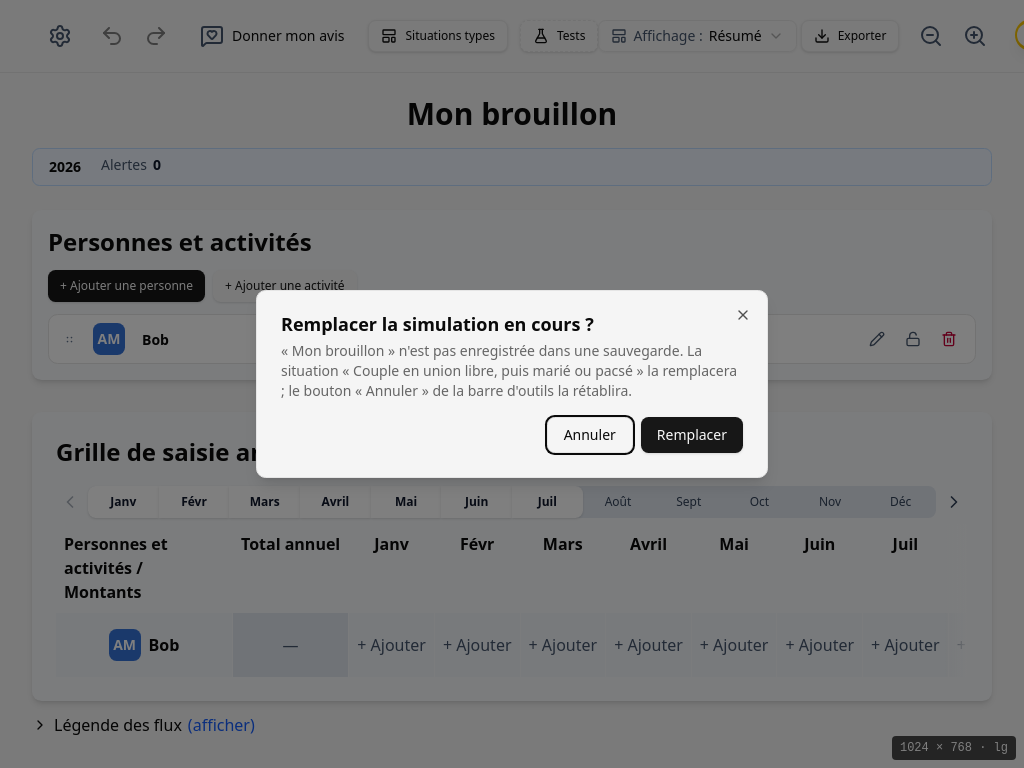
Scenario: App : adresse d'une situation type (#situation=…) › sur une simulation non enregistrée, « Remplacer » charge la situation, annulable en une étape
What coordinates should you click on to do the following:
click the button "Remplacer"
I would click on:
 (692, 435)
Its box is [641,417,743,453].
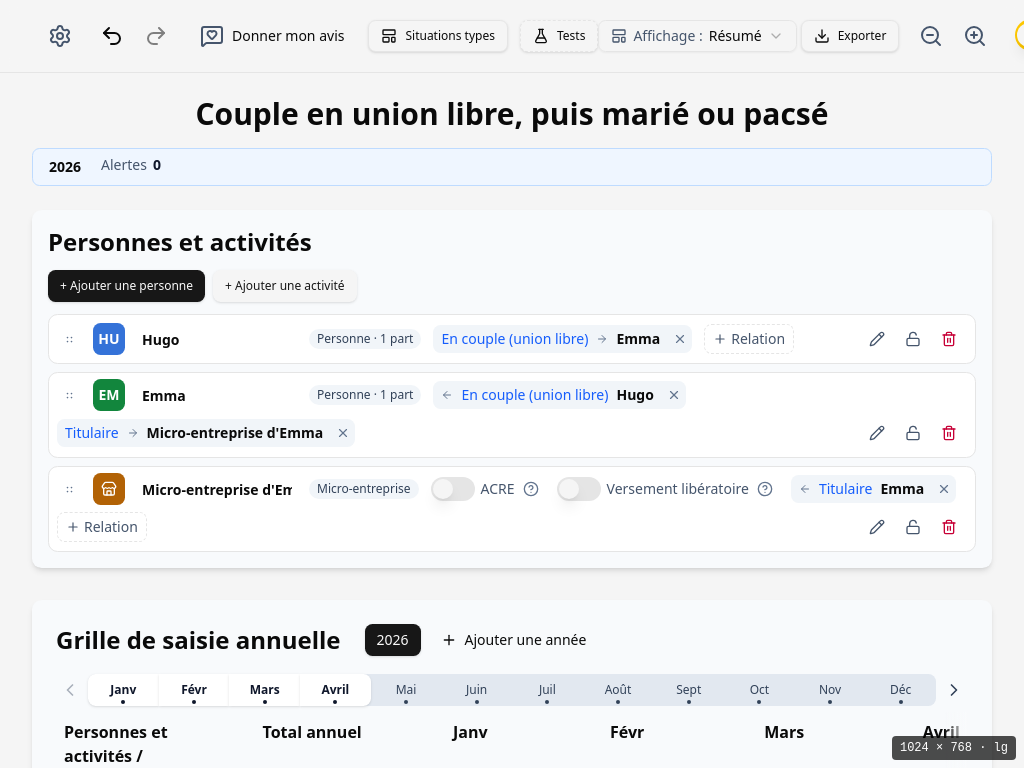
Check: the heading "Couple en union libre, puis marié ou pacsé" is shown, box [196,93,828,134]
What coordinates should you click on to do the following:
click the button named "Annuler"
I would click on:
 (112, 36)
Its box is [92,16,132,56].
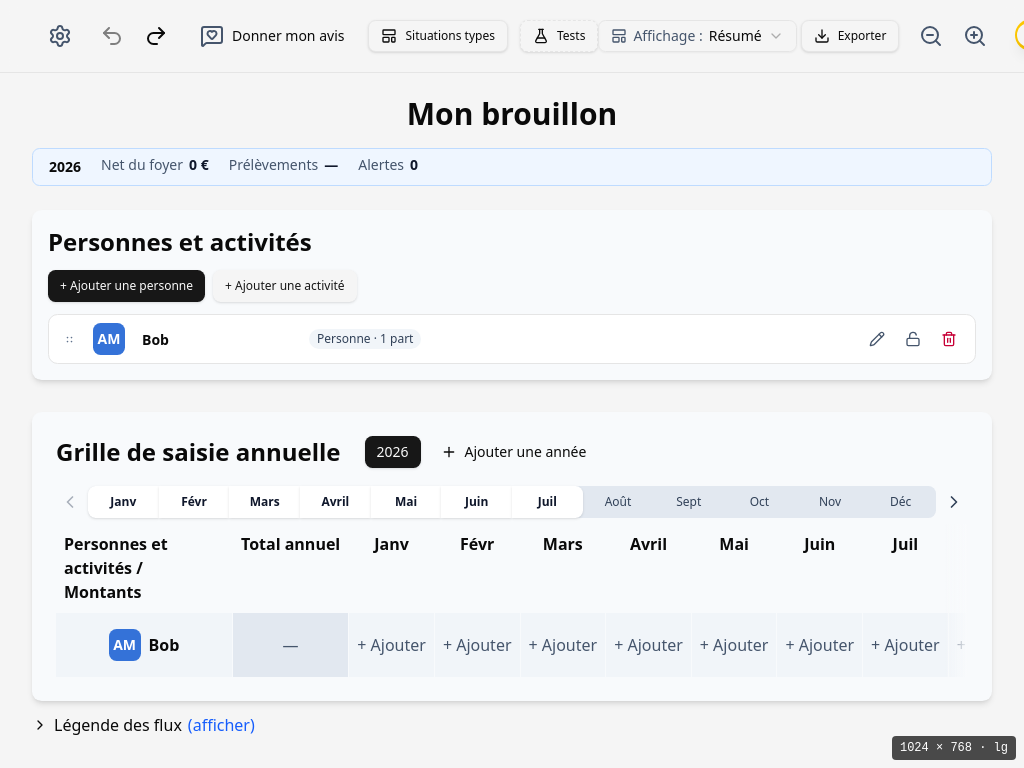
Check: the heading "Mon brouillon" is shown, box [407,93,617,134]
Check: the button named "Annuler" is disabled, box [92,16,132,56]
